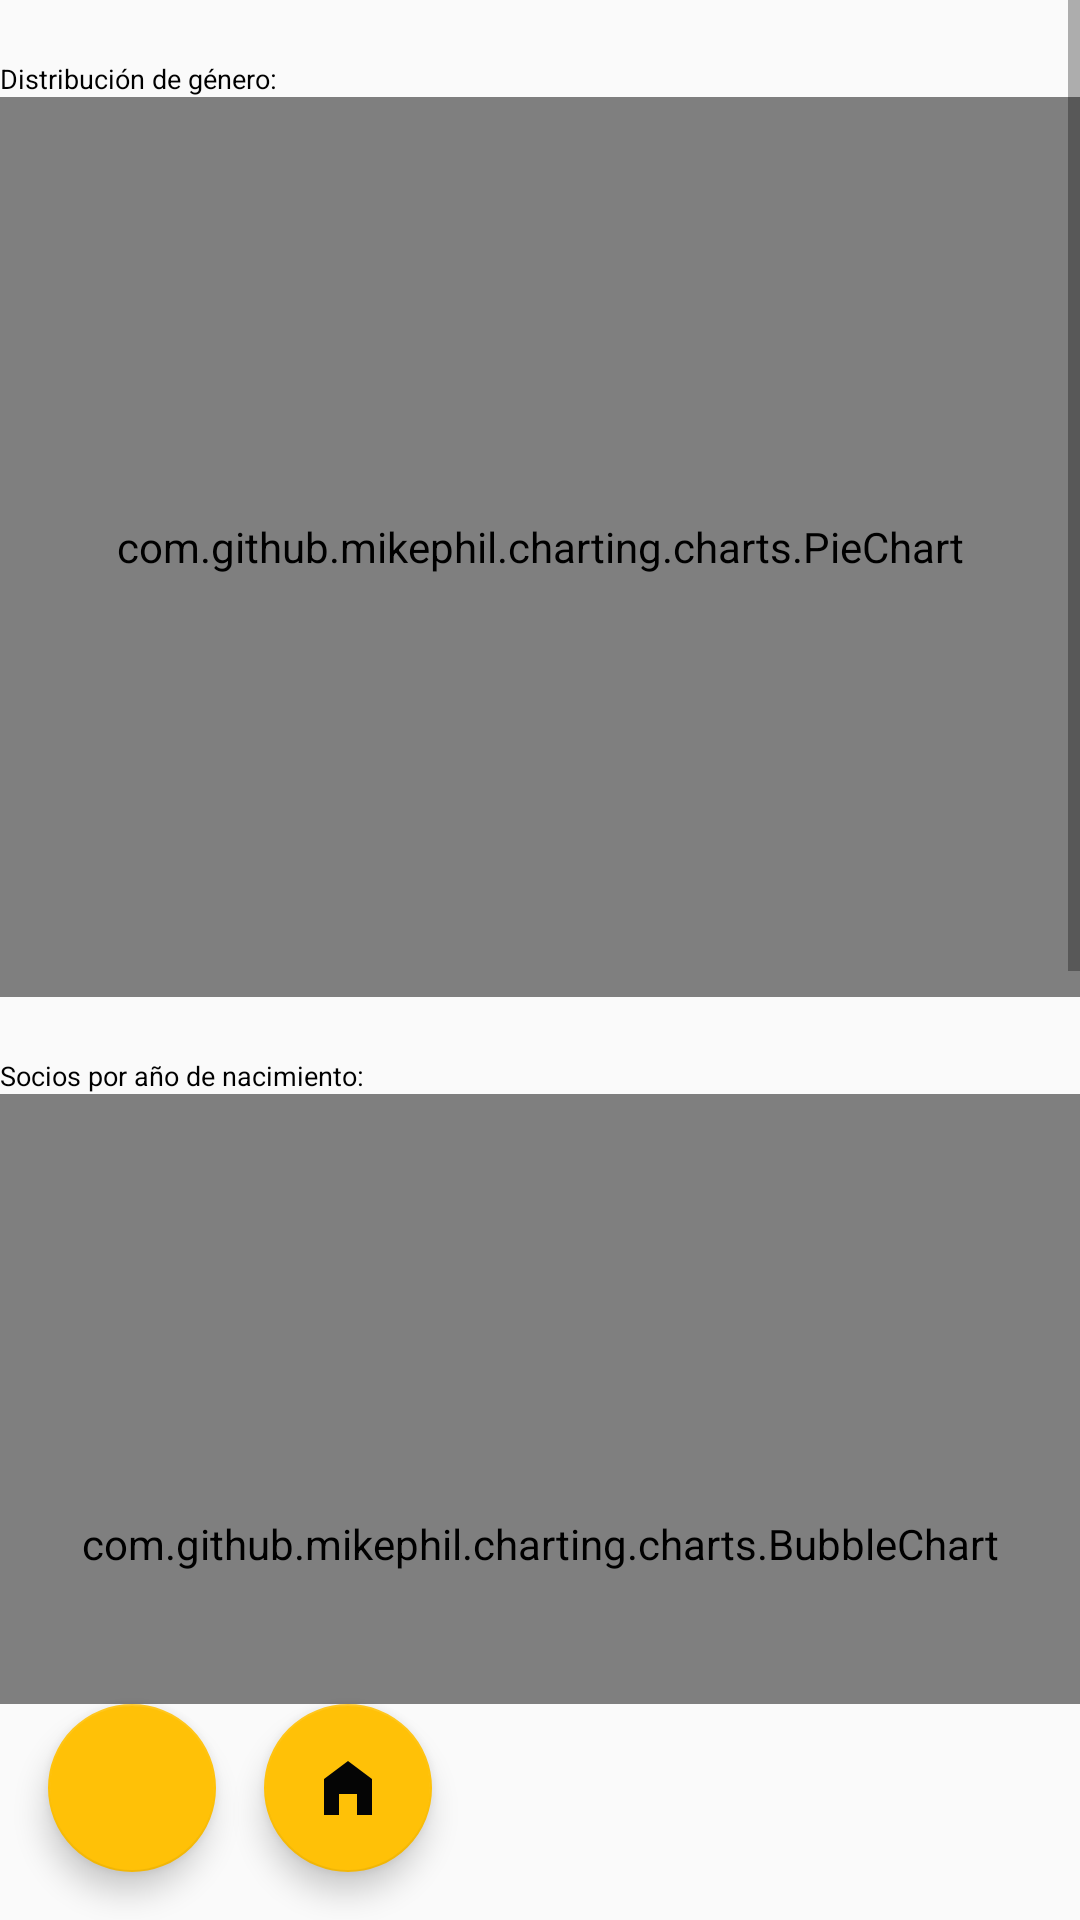

Point at icon controls on the screen. Image size 1080px x 1920px, points as (x=x, y=y).
home: (x=348, y=1788)
